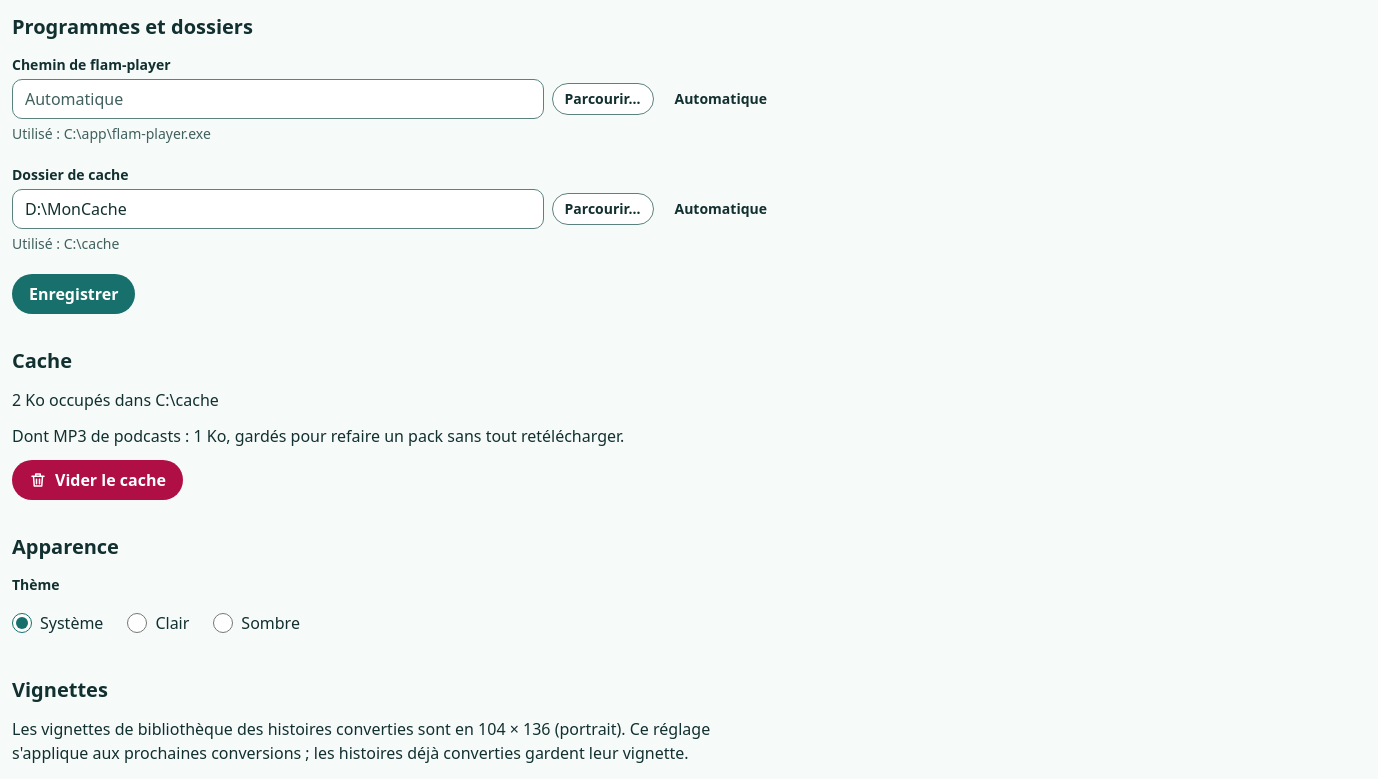
it: ne relit plus les histoires installées tant que le dossier de cache ne change pas
This screenshot has width=1378, height=779.
Expected: the field labelled "Chemin de flam-player" is shown, [12,79,544,119]
Click the button "Enregistrer".
click(74, 294)  # box [12,274,136,314]
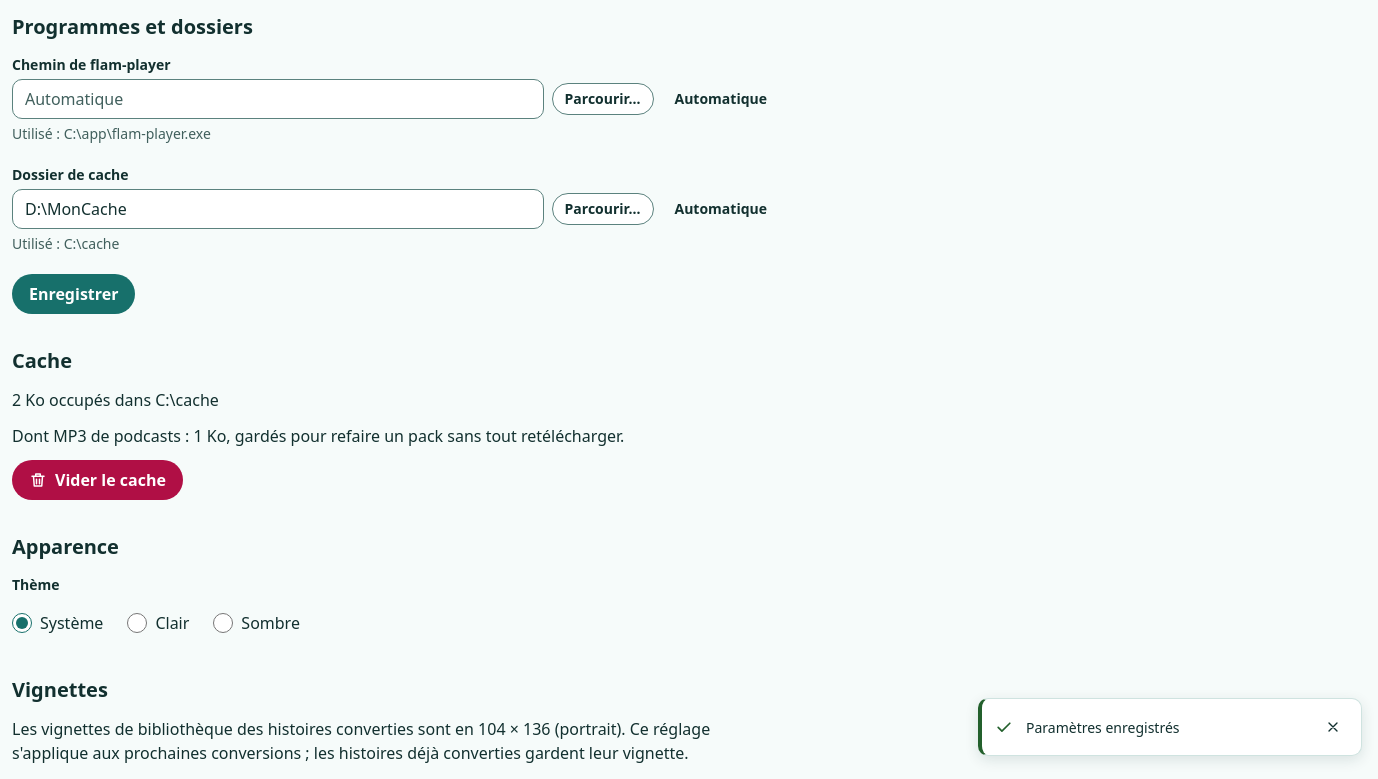
Type "C:\\autre\\flam-player.exe" into the field labelled "Chemin de flam-player".
click(278, 99); type("C:\\autre\\flam-player.exe")  # box [12,79,544,119]
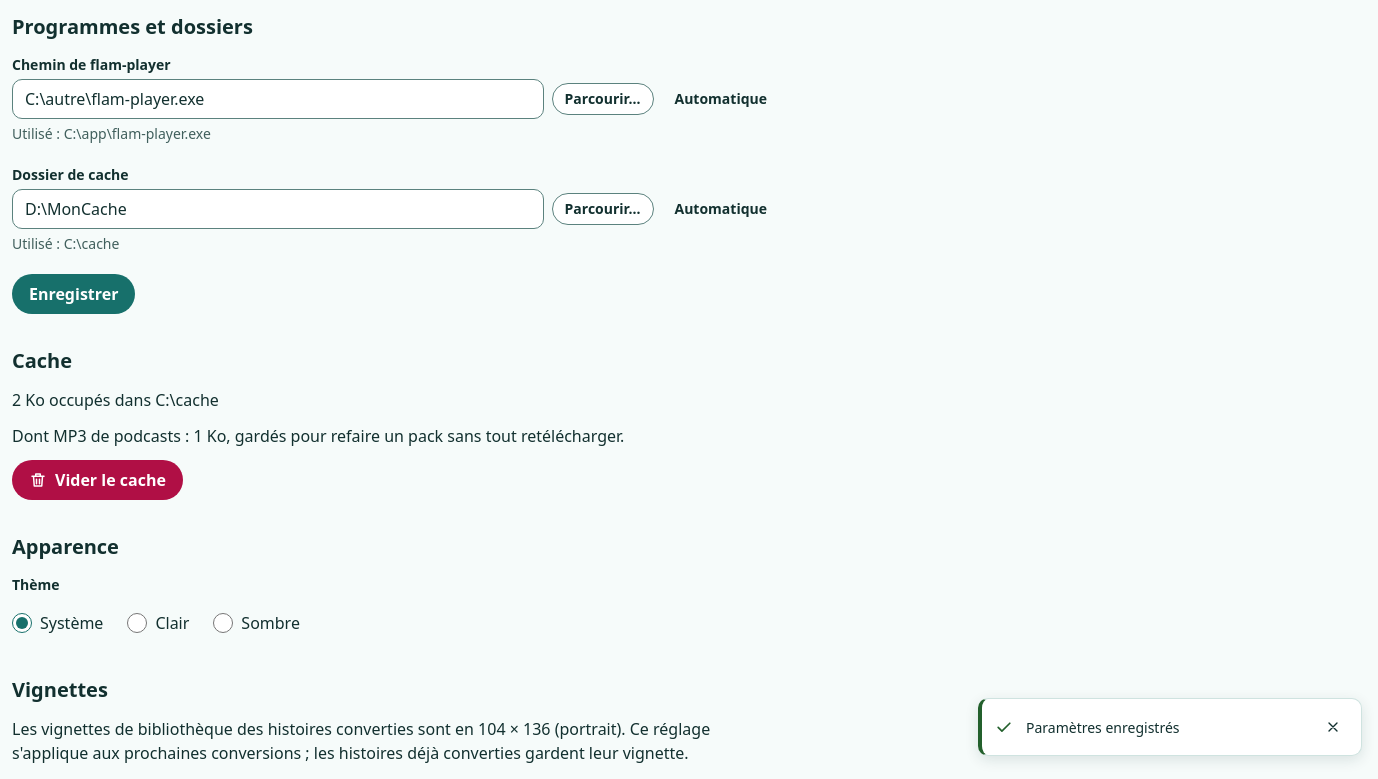
Click the button "Enregistrer".
click(74, 294)  # box [12,274,136,314]
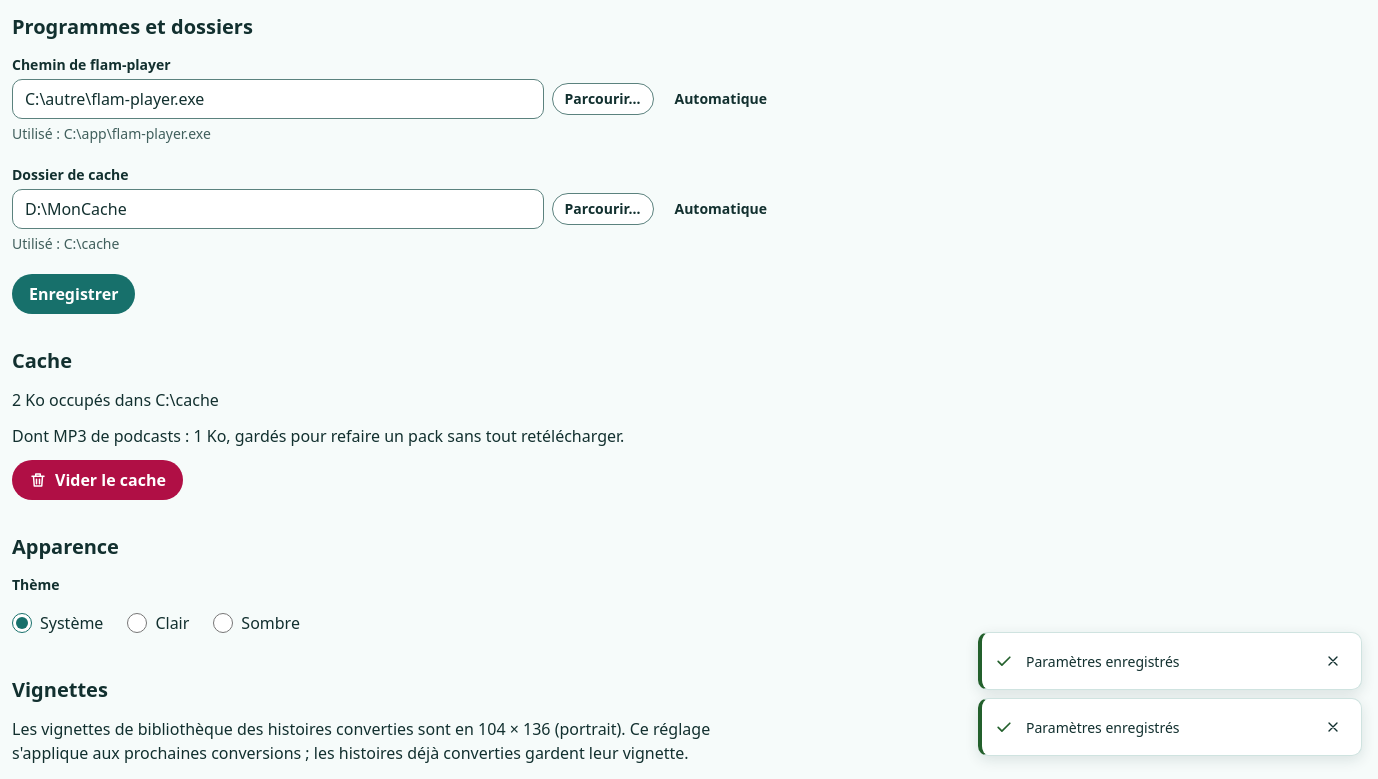
Expected: the text "Paramètres enregistrés" is shown 2 times, [1026,652,1180,671]; [1026,718,1180,737]
